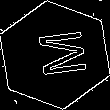M_W: (25, 29, 85, 81)
